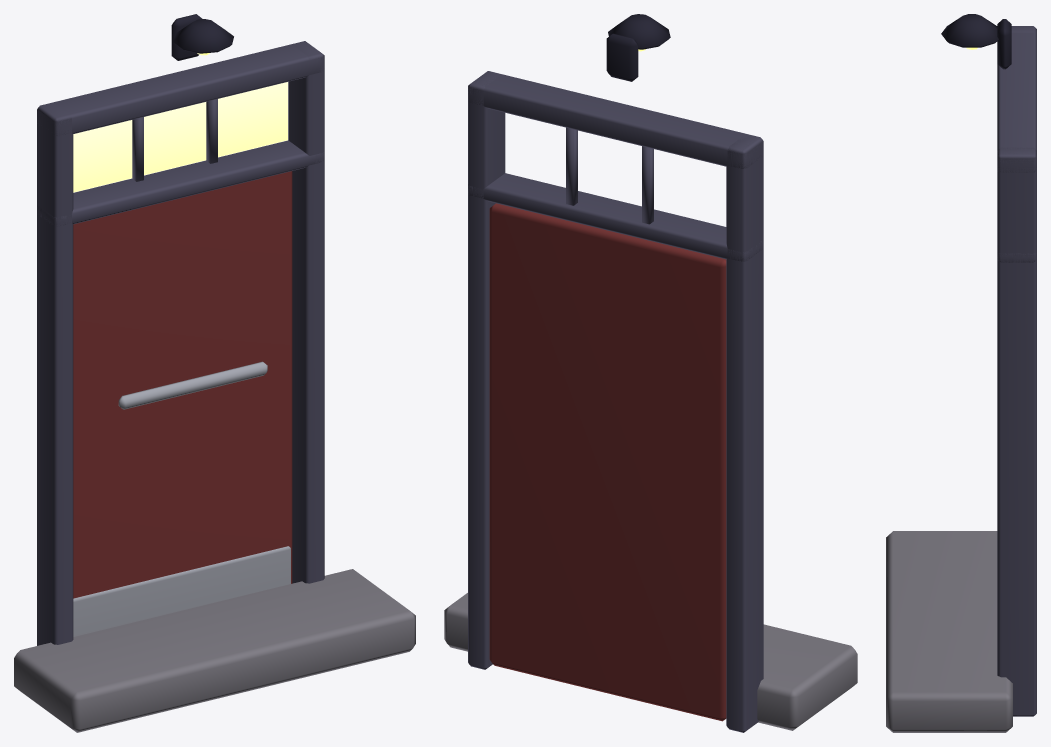
File: back_door.glb
3 renders of one model, left to right at view 1: azimuth 30°, elevation 25°; view 2: azimuth 150°, elevation 25°; view 3: azimuth 270°, elevation 25°, orthographic. The views are drawn at different scales.
Visible parts, largest first — view 1: back_door, door; view 2: door, back_door; view 3: back_door.
Boxes of the visible parts, x1,y1,x2,y2 form: back_door: (14,14,415,732); door: (73,171,292,636); door: (489,203,726,721); back_door: (444,14,857,732); back_door: (886,14,1036,732).
Size of the model in its own units: 1.4 by 2.48 by 0.535.
